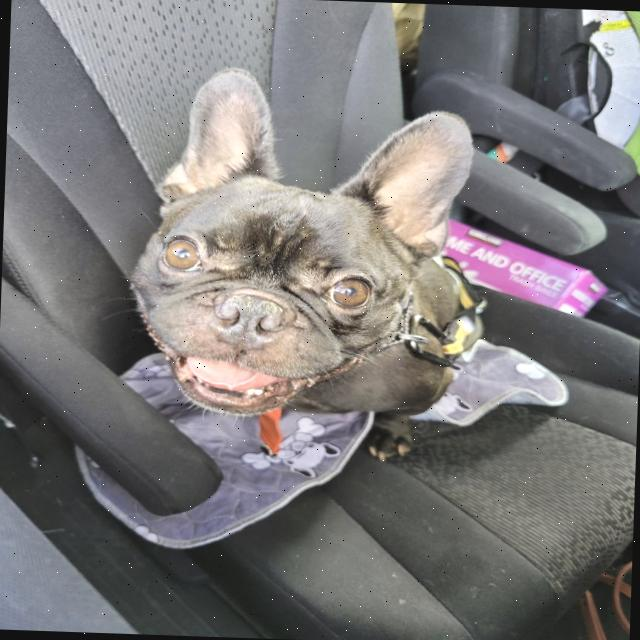french_bulldog_dog: (116, 56, 494, 449)
